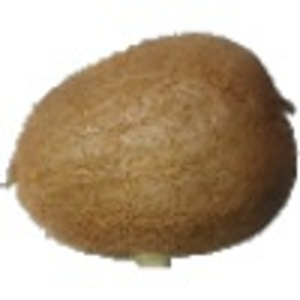kiwi: (4, 31, 300, 272)
